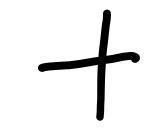plus: (38, 10, 140, 121)
